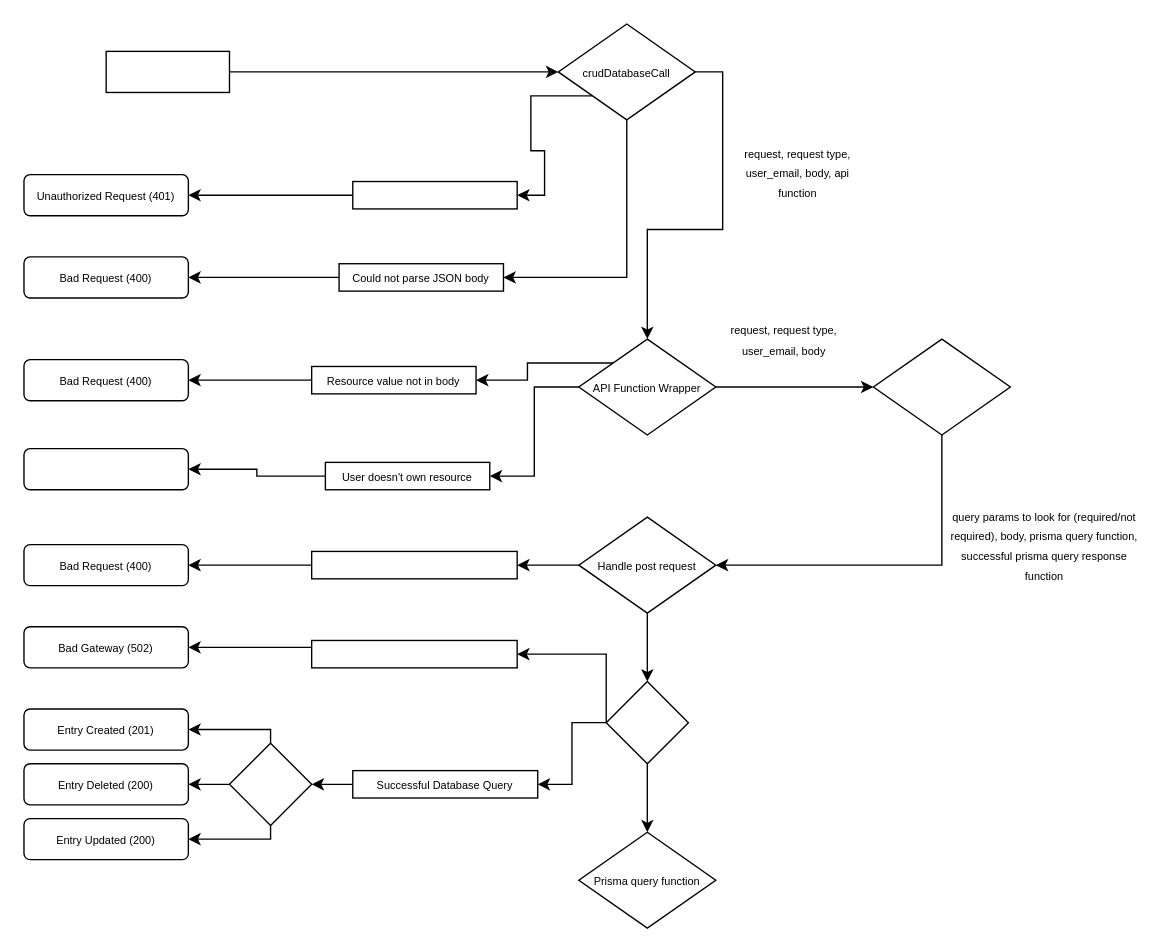
Some shapes in this 1171 by 952 pixel diagram are drawn without their labels. The centre of each missing label's shape, as x and y in pixels:
"API Function" goes at (x=941, y=386).
"Body missing required query params" goes at (x=413, y=564).
"Database error" goes at (x=413, y=653).
"Forbidden Request (403)" goes at (x=105, y=468).
"Query Type" goes at (x=270, y=783).
"Try/Catch" goes at (x=646, y=722).
"User not logged in" goes at (x=434, y=194).
"User-facing POST request" goes at (x=167, y=71).
